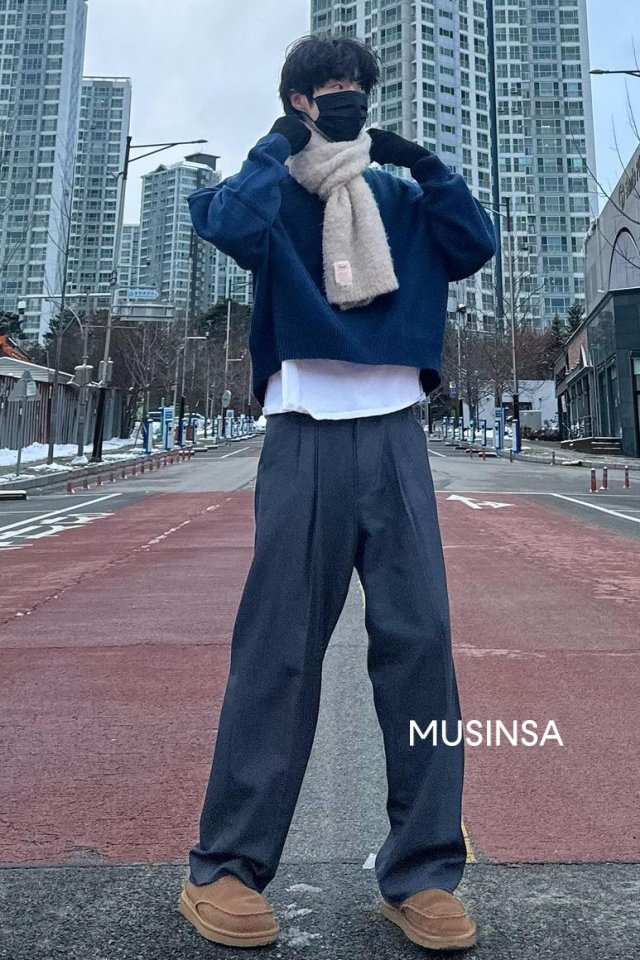Mask: (305, 89, 377, 139)
Muffler: (287, 117, 403, 309)
Pants: (189, 410, 503, 891)
Shoes: (164, 873, 498, 951)
Top: (181, 140, 489, 397)
